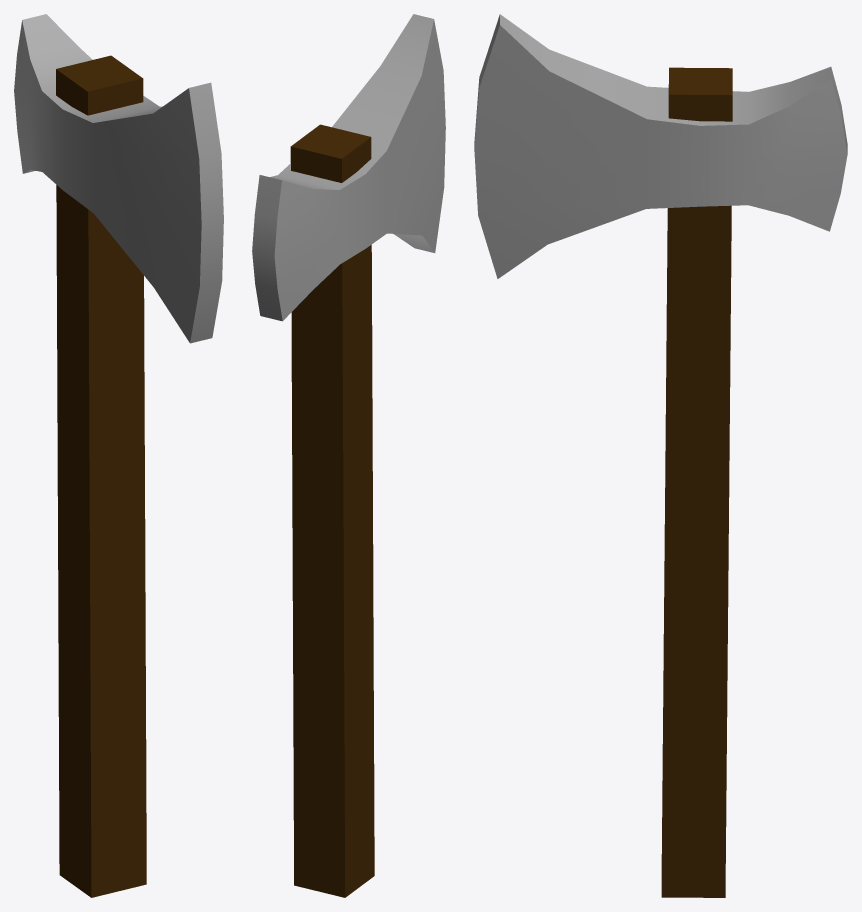
The model's file is axeSteel.fbx.
3 renders of one model, left to right at view 1: azimuth 30°, elevation 25°; view 2: azimuth 150°, elevation 25°; view 3: azimuth 270°, elevation 25°, orthographic. The views are drawn at different scales.
Visible parts, largest first — view 1: axeSteel; view 2: axeSteel; view 3: axeSteel.
Boxes of the visible parts, left/top/right/bottom form: axeSteel: left=14, top=14, right=223, bottom=897; axeSteel: left=252, top=14, right=445, bottom=897; axeSteel: left=474, top=14, right=847, bottom=897.
Size of the model in its own units: 6.99 by 77.75 by 30.38.
